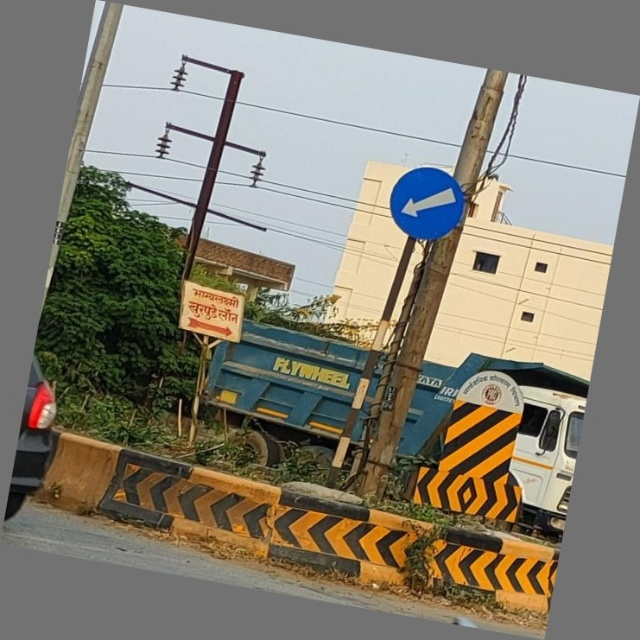R.301e: (378, 156, 480, 252)
